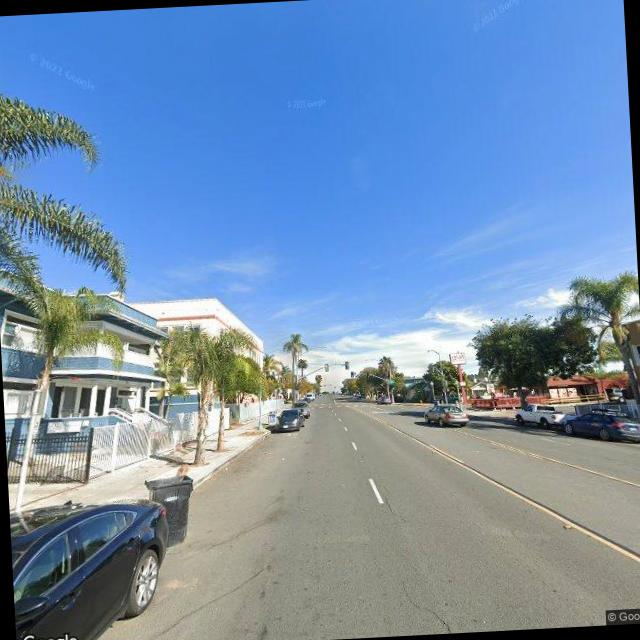pothole: (397, 567, 482, 635)
